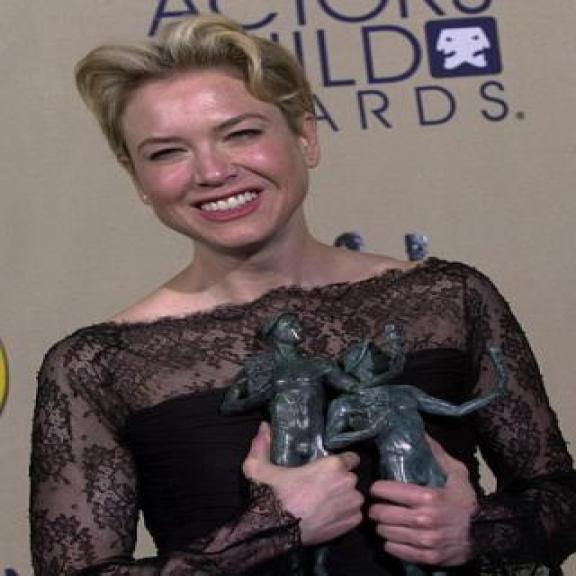face: (124, 68, 328, 253)
